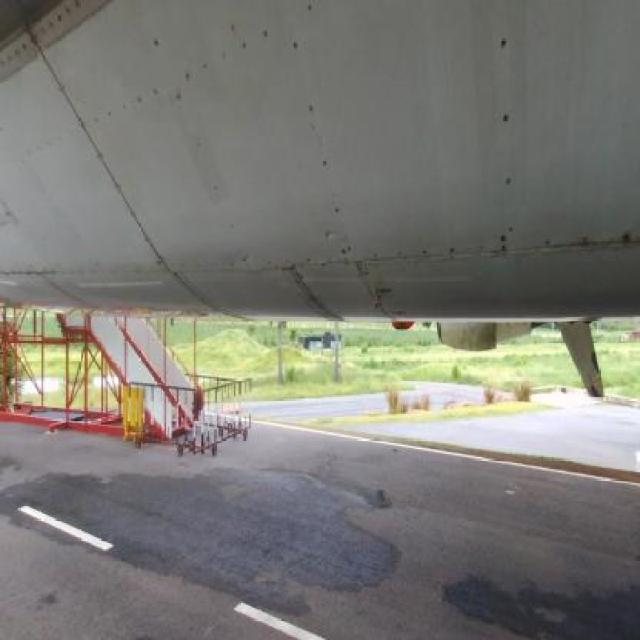Missing-Rivet: (286, 38, 357, 256), (440, 235, 640, 279), (496, 22, 527, 235), (210, 20, 310, 74), (123, 71, 237, 112)
